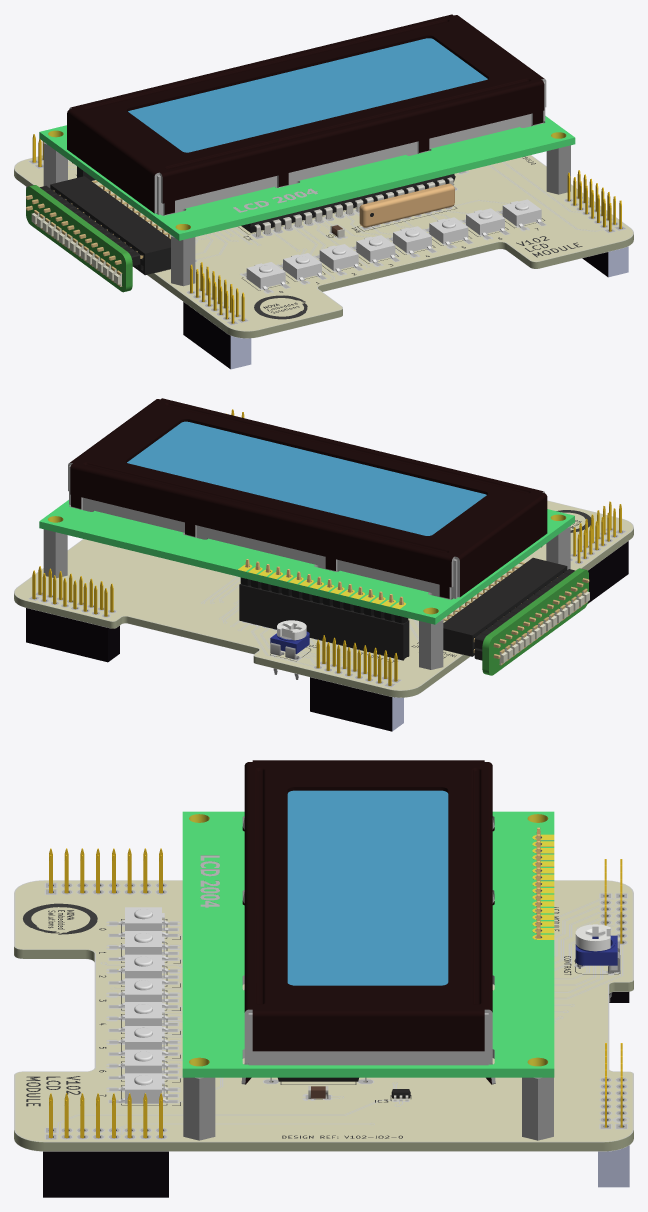
3 views of the same model, one above another, from view 1: azimuth 30°, elevation 25°; view 2: azimuth 150°, elevation 25°; view 3: azimuth 270°, elevation 25° (orthographic). The views are drawn at different scales.
Parts seen in each view (by area): view 1: =>[0:1:1:3] (×2), =>[0:1:1:19], =>[0:1:1:14], J5, SW6, J1, =>[0:1:1:21], 39, RV1, RN1, =>[0:1:1:5], =>[0:1:1:15] (+1 smaller); view 2: =>[0:1:1:3] (×2), =>[0:1:1:19], =>[0:1:1:14], J1, J5, RV1, =>[0:1:1:21], 39, Header, Male, 2.54mm, 1x16 v1:1, =>[0:1:1:15]; view 3: =>[0:1:1:3], =>[0:1:1:19], =>[0:1:1:14], J1, =>[0:1:1:21], SW6, RV1, =>[0:1:1:15], =>[0:1:1:17].
Part boxes in pixels (x1=…): =>[0:1:1:3] (×2): x1=31, y1=14, x2=575, y2=286; =>[0:1:1:19]: x1=14, y1=155, x2=633, y2=338; =>[0:1:1:14]: x1=15, y1=156, x2=632, y2=330; J5: x1=26, y1=166, x2=455, y2=286; SW6: x1=246, y1=199, x2=541, y2=289; J1: x1=26, y1=134, x2=628, y2=369; =>[0:1:1:21]: x1=14, y1=159, x2=633, y2=338; 39: x1=26, y1=185, x2=132, y2=292; RV1: x1=43, y1=142, x2=570, y2=286; RN1: x1=359, y1=183, x2=454, y2=227; =>[0:1:1:5]: x1=254, y1=171, x2=465, y2=237; =>[0:1:1:15]: x1=29, y1=158, x2=625, y2=324; =>[0:1:1:3] (×2): x1=39, y1=398, x2=589, y2=665; =>[0:1:1:19]: x1=14, y1=500, x2=633, y2=697; =>[0:1:1:14]: x1=15, y1=502, x2=632, y2=689; J1: x1=26, y1=409, x2=628, y2=731; J5: x1=239, y1=557, x2=589, y2=665; RV1: x1=43, y1=526, x2=570, y2=679; =>[0:1:1:21]: x1=14, y1=527, x2=633, y2=697; 39: x1=482, y1=568, x2=588, y2=675; Header, Male, 2.54mm, 1x16 v1:1: x1=240, y1=559, x2=408, y2=623; =>[0:1:1:15]: x1=29, y1=528, x2=625, y2=686; =>[0:1:1:3]: x1=182, y1=760, x2=554, y2=1084; =>[0:1:1:19]: x1=14, y1=880, x2=633, y2=1151; =>[0:1:1:14]: x1=16, y1=881, x2=631, y2=1141; J1: x1=43, y1=848, x2=629, y2=1197; =>[0:1:1:21]: x1=14, y1=883, x2=633, y2=1151; SW6: x1=118, y1=907, x2=168, y2=1103; RV1: x1=183, y1=924, x2=620, y2=1140; =>[0:1:1:15]: x1=46, y1=883, x2=626, y2=1139; =>[0:1:1:17]: x1=23, y1=903, x2=620, y2=1138.
Bounding box in the file's own units: 0.1087 × 0.0325 × 0.1.
